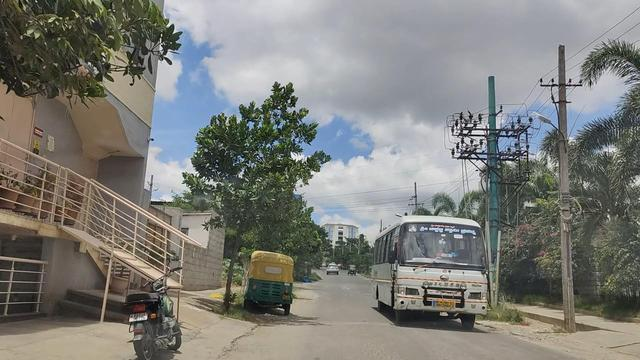HMV: (365, 210, 497, 335)
